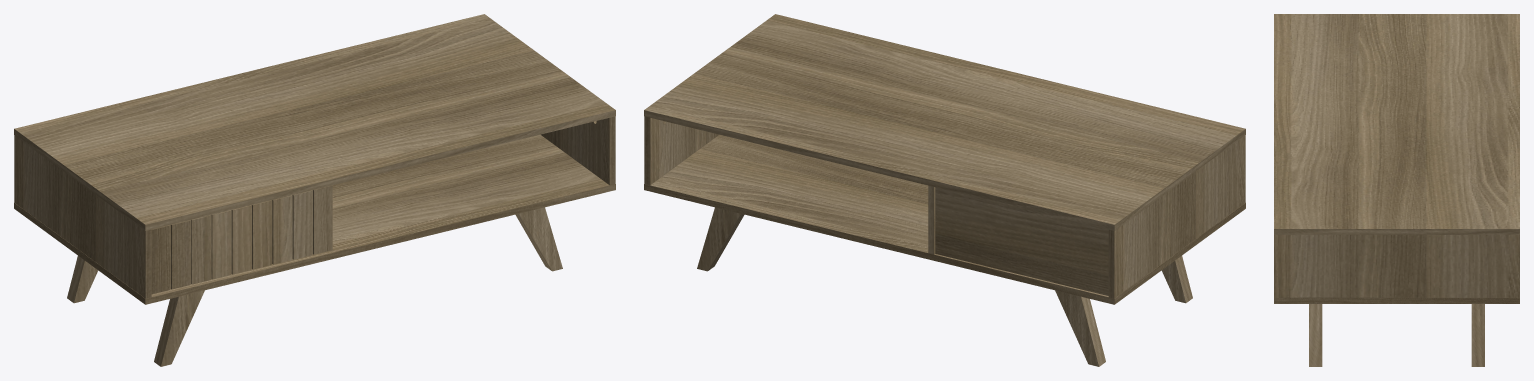
The picture shows the model from 3 angles, left to right: view 1: azimuth 30°, elevation 25°; view 2: azimuth 150°, elevation 25°; view 3: azimuth 270°, elevation 25°; orthographic projection. The views are drawn at different scales.
Visible parts, largest first — view 1: A326250-TAPASXXXTA, A326250-PISOSXXXPI, A326250-FRENTESXCA, A326250-COSTADOSIZ, A326250-COSTADOSDE, Pata 194, Pata 200, Pata 191; view 2: A326250-TAPASXXXTA, A326250-PISOSXXXPI, A326250-FONDOSXXFD, A326250-COSTADOSIZ, A326250-COSTADOSDE, Pata 191, Pata 197, Pata 194, A326250-SEPDORESSE; view 3: A326250-TAPASXXXTA, A326250-COSTADOSDE, A326250-PISOSXXXPI, Pata 197, Pata 200.
Part boxes in pixels (box(x1,y1,x2,y2)): A326250-TAPASXXXTA: box(14, 14, 615, 230); A326250-PISOSXXXPI: box(14, 134, 615, 304); A326250-FRENTESXCA: box(151, 185, 332, 294); A326250-COSTADOSIZ: box(14, 135, 151, 298); A326250-COSTADOSDE: box(541, 116, 615, 185); Pata 194: box(154, 290, 204, 366); Pata 200: box(515, 207, 562, 271); Pata 191: box(67, 256, 98, 303); A326250-TAPASXXXTA: box(644, 14, 1245, 230); A326250-PISOSXXXPI: box(644, 134, 1245, 304); A326250-FONDOSXXFD: box(935, 187, 1108, 295); A326250-COSTADOSIZ: box(1108, 135, 1245, 298); A326250-COSTADOSDE: box(644, 116, 718, 185); Pata 191: box(1055, 290, 1105, 366); Pata 197: box(697, 207, 744, 271); Pata 194: box(1161, 256, 1192, 303); A326250-SEPDORESSE: box(928, 185, 935, 254); A326250-TAPASXXXTA: box(1274, 14, 1519, 234); A326250-COSTADOSDE: box(1274, 234, 1519, 297); A326250-PISOSXXXPI: box(1274, 298, 1519, 303); Pata 197: box(1471, 304, 1484, 366); Pata 200: box(1309, 304, 1322, 366).
Size of the model in its own units: 1.2 by 0.4 by 0.58.
Materials: 1 (1 with a texture image).
